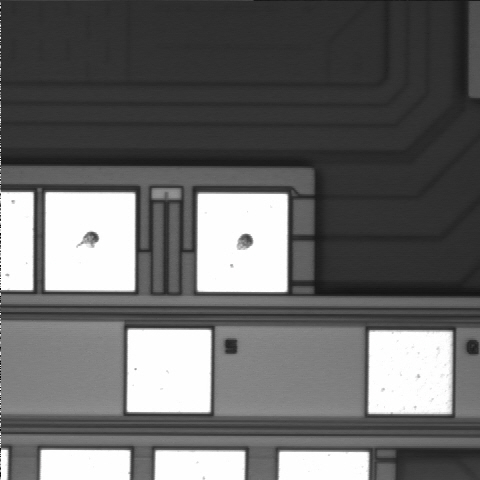pad: (197, 194, 288, 292), (45, 192, 135, 291), (127, 329, 211, 412), (368, 331, 452, 414)
